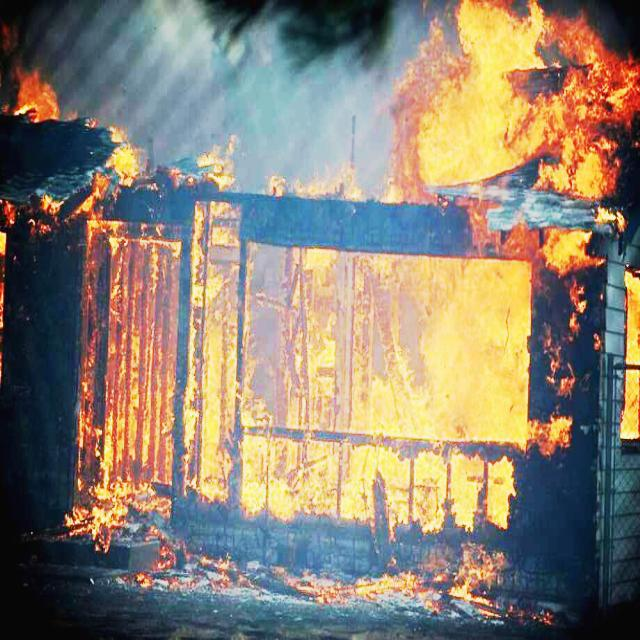api: (340, 252, 534, 533), (380, 1, 640, 209), (81, 218, 185, 519), (186, 143, 245, 502), (283, 229, 352, 523), (240, 391, 308, 523), (441, 546, 518, 611), (267, 157, 368, 204), (67, 494, 143, 553), (542, 228, 616, 283), (83, 218, 174, 262), (620, 260, 640, 448), (11, 59, 66, 126), (105, 114, 153, 189), (521, 402, 585, 458), (351, 564, 424, 609), (67, 167, 108, 232), (27, 186, 68, 250), (1, 186, 18, 330)
